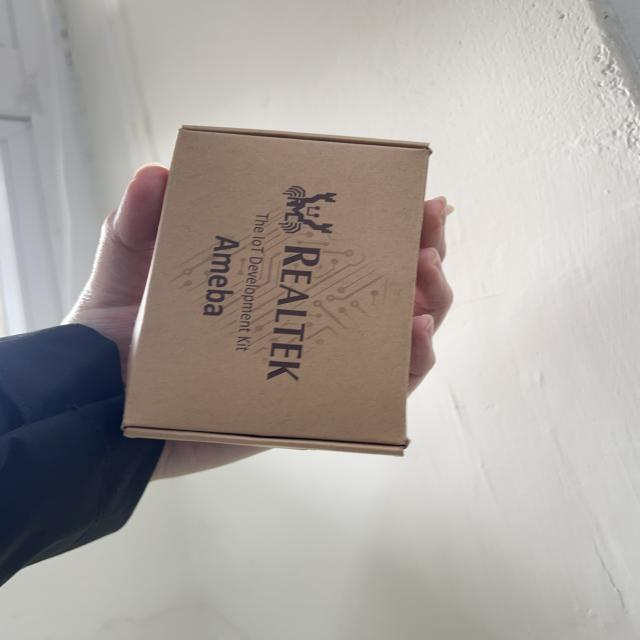box: (85, 131, 449, 462)
